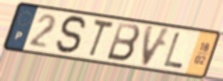2: (26, 14, 57, 51)
B: (105, 21, 142, 63)
L: (161, 31, 185, 71)
S: (54, 14, 89, 56)
T: (88, 18, 116, 60)
V: (139, 23, 174, 69)
